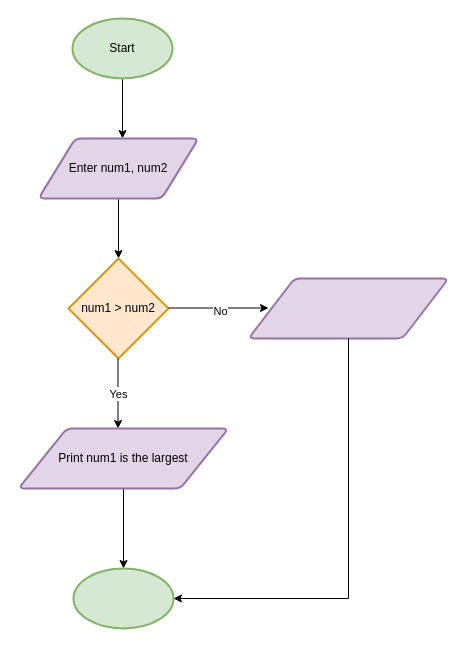
This 466x646 diagram has some shape labels left out. Each missing label, with the centre of its shape:
"Print num2 is the largest" belongs at pixel 348 308.
"Stop" belongs at pixel 123 598.
